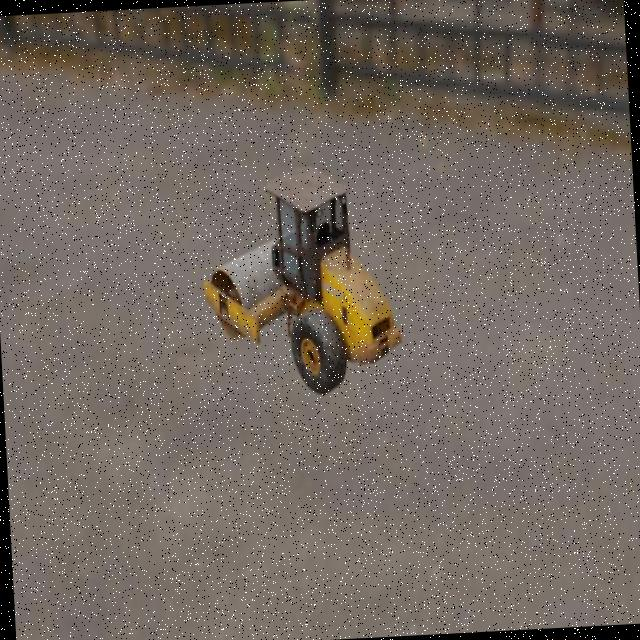Roller: (197, 160, 404, 400)
